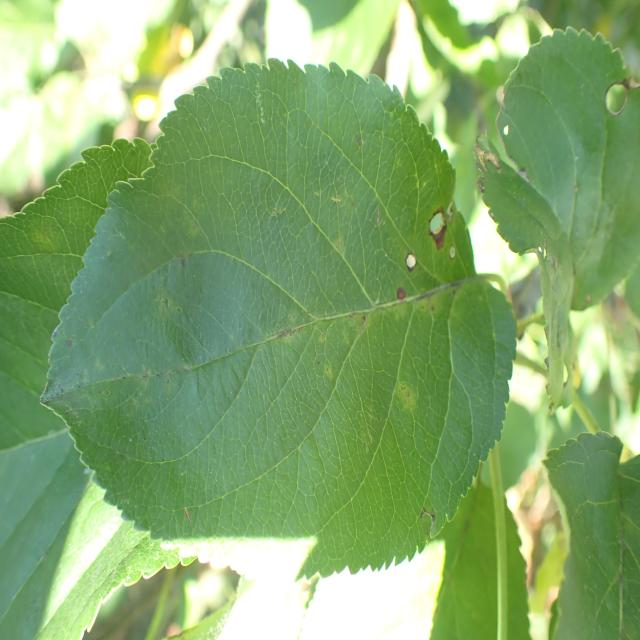frog-eye-leaf-spot: (40, 56, 519, 580)
